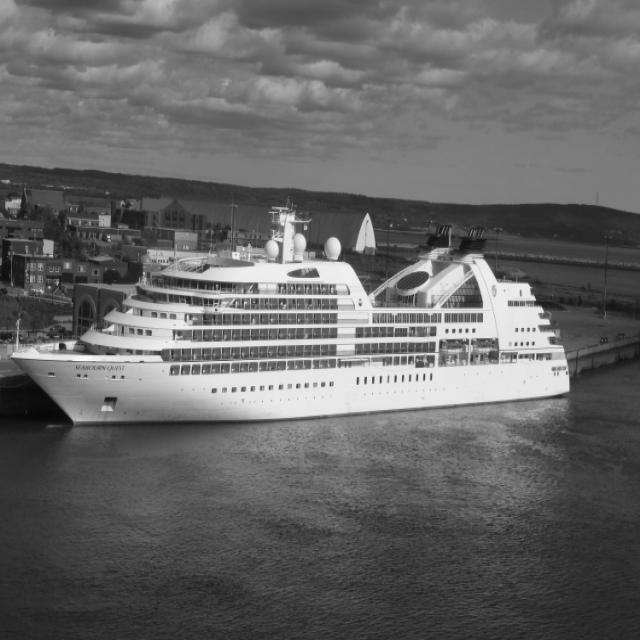cruises: (10, 200, 574, 434)
